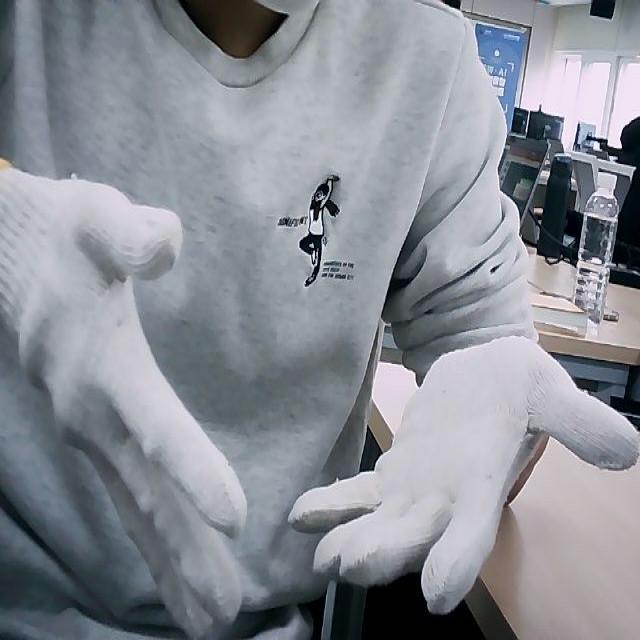GLOVE: (0, 152, 247, 640), (284, 332, 640, 640)
